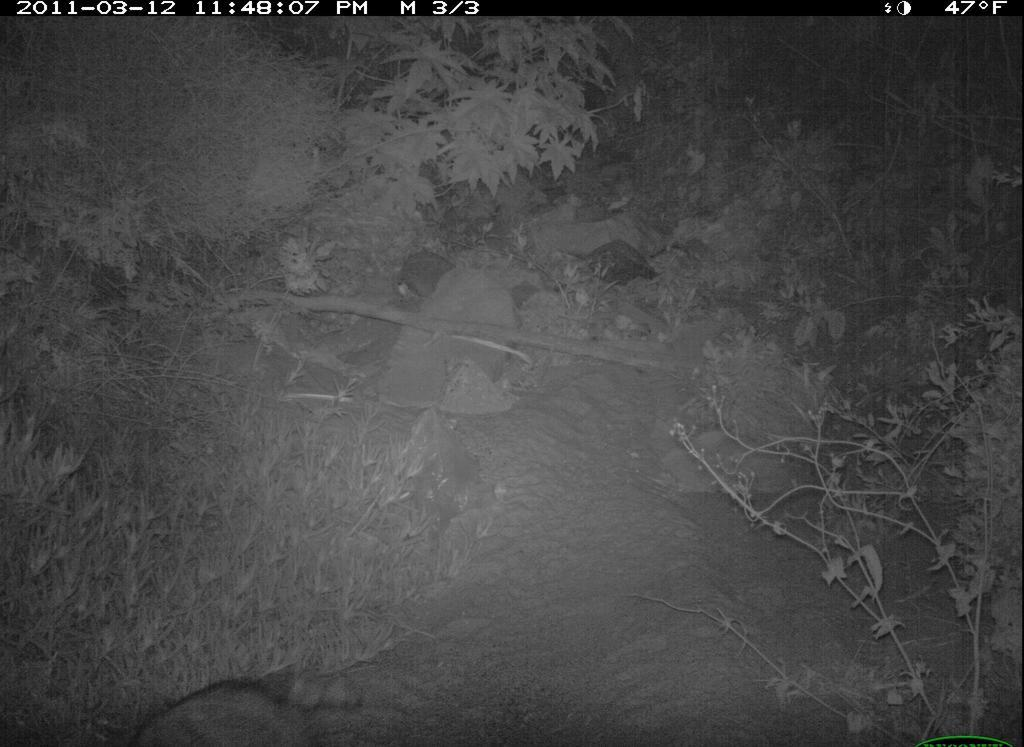raccoon: (130, 661, 376, 747)
